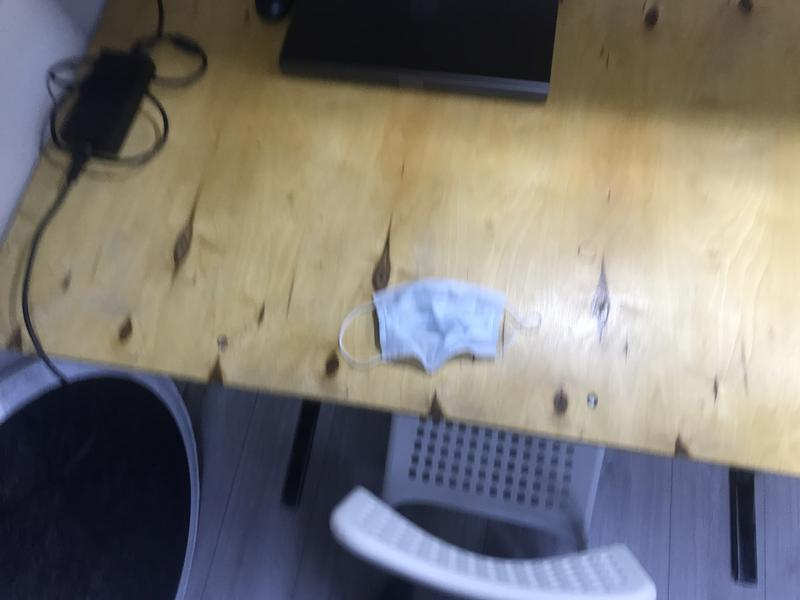medical_mask: (337, 279, 541, 372)
